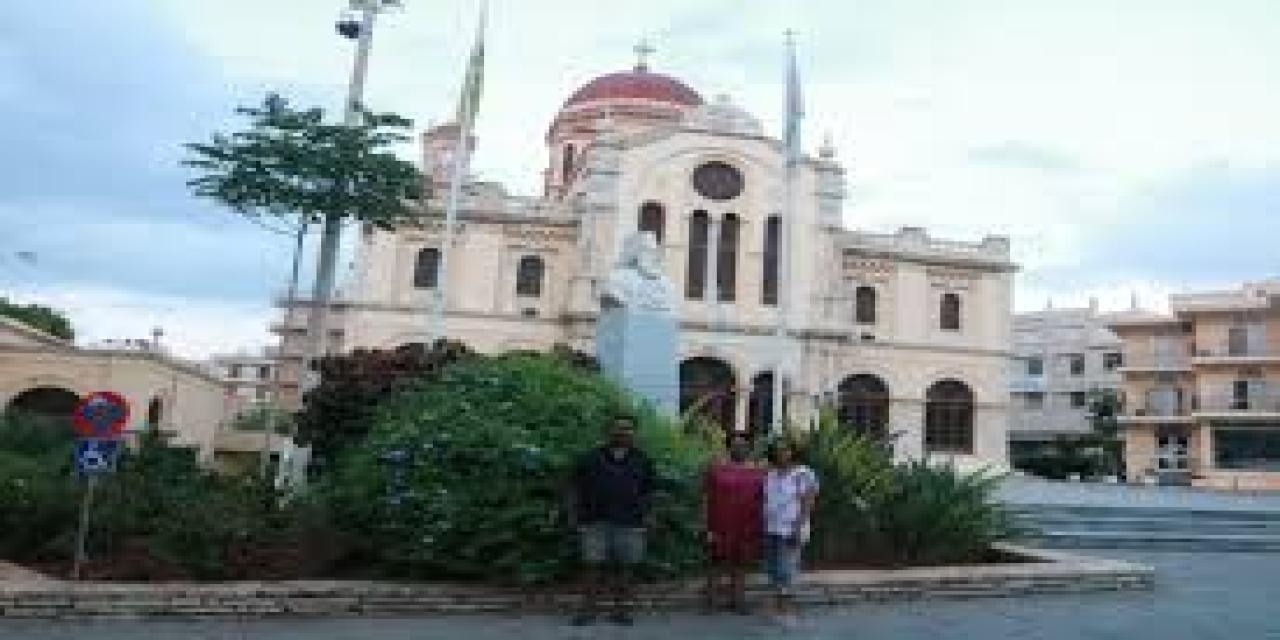Agios Minas: (329, 25, 1012, 522)
